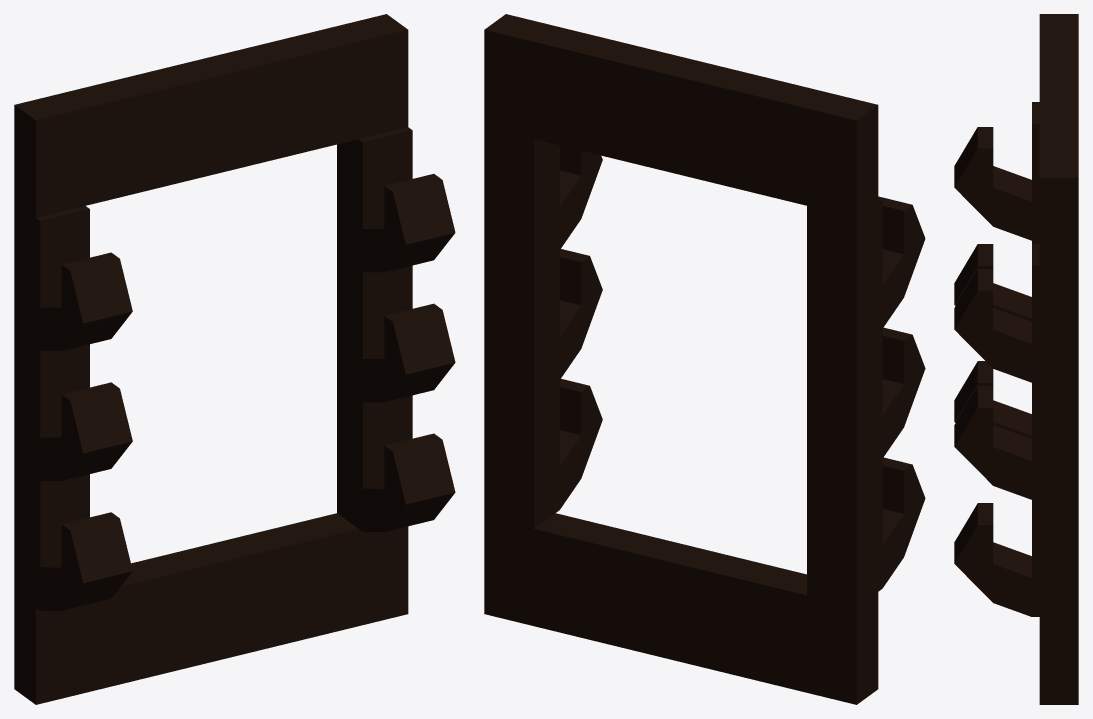
Rendered from WeaponWallRack002.FBX.
3 renders of one model, left to right at view 1: azimuth 30°, elevation 25°; view 2: azimuth 150°, elevation 25°; view 3: azimuth 270°, elevation 25°, orthographic. The views are drawn at different scales.
Parts seen in each view (by area): view 1: WeaponWallRack; view 2: WeaponWallRack; view 3: WeaponWallRack.
Part boxes in pixels (bbox=[...]): WeaponWallRack: bbox=[14, 14, 455, 704]; WeaponWallRack: bbox=[484, 14, 925, 704]; WeaponWallRack: bbox=[954, 14, 1078, 704].
Size of the model in its own units: 10 by 15 by 3.2.
